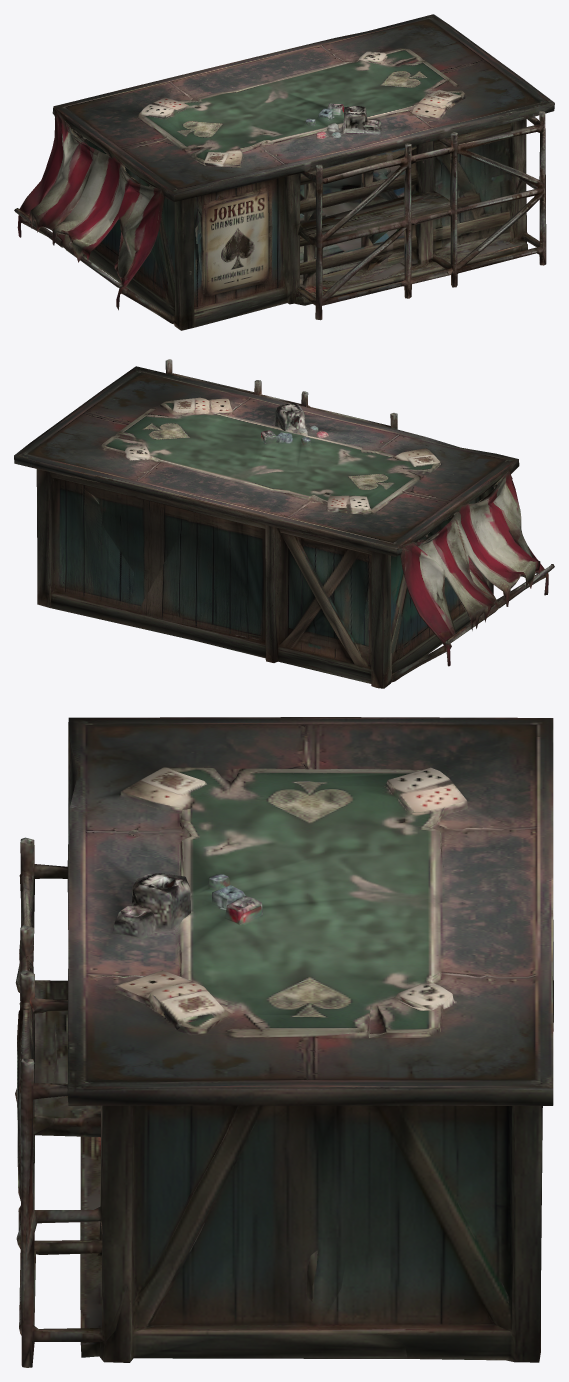
The model's file is Meshy_AI_Joker_s_Changing_Room_0517052258_texture.fbx.
3 views of the same model, one above another, from view 1: azimuth 30°, elevation 25°; view 2: azimuth 150°, elevation 25°; view 3: azimuth 270°, elevation 25° (orthographic). The views are drawn at different scales.
Visible parts, largest first — view 1: Mesh_0; view 2: Mesh_0; view 3: Mesh_0.
Part boxes in pixels (x1,y1,x2,y2): Mesh_0: (14,14,554,330); Mesh_0: (14,359,554,688); Mesh_0: (15,717,553,1367).
Bounding box in the file's own units: 191 × 69.9 × 102.
Materials: 1 (1 with a texture image).
